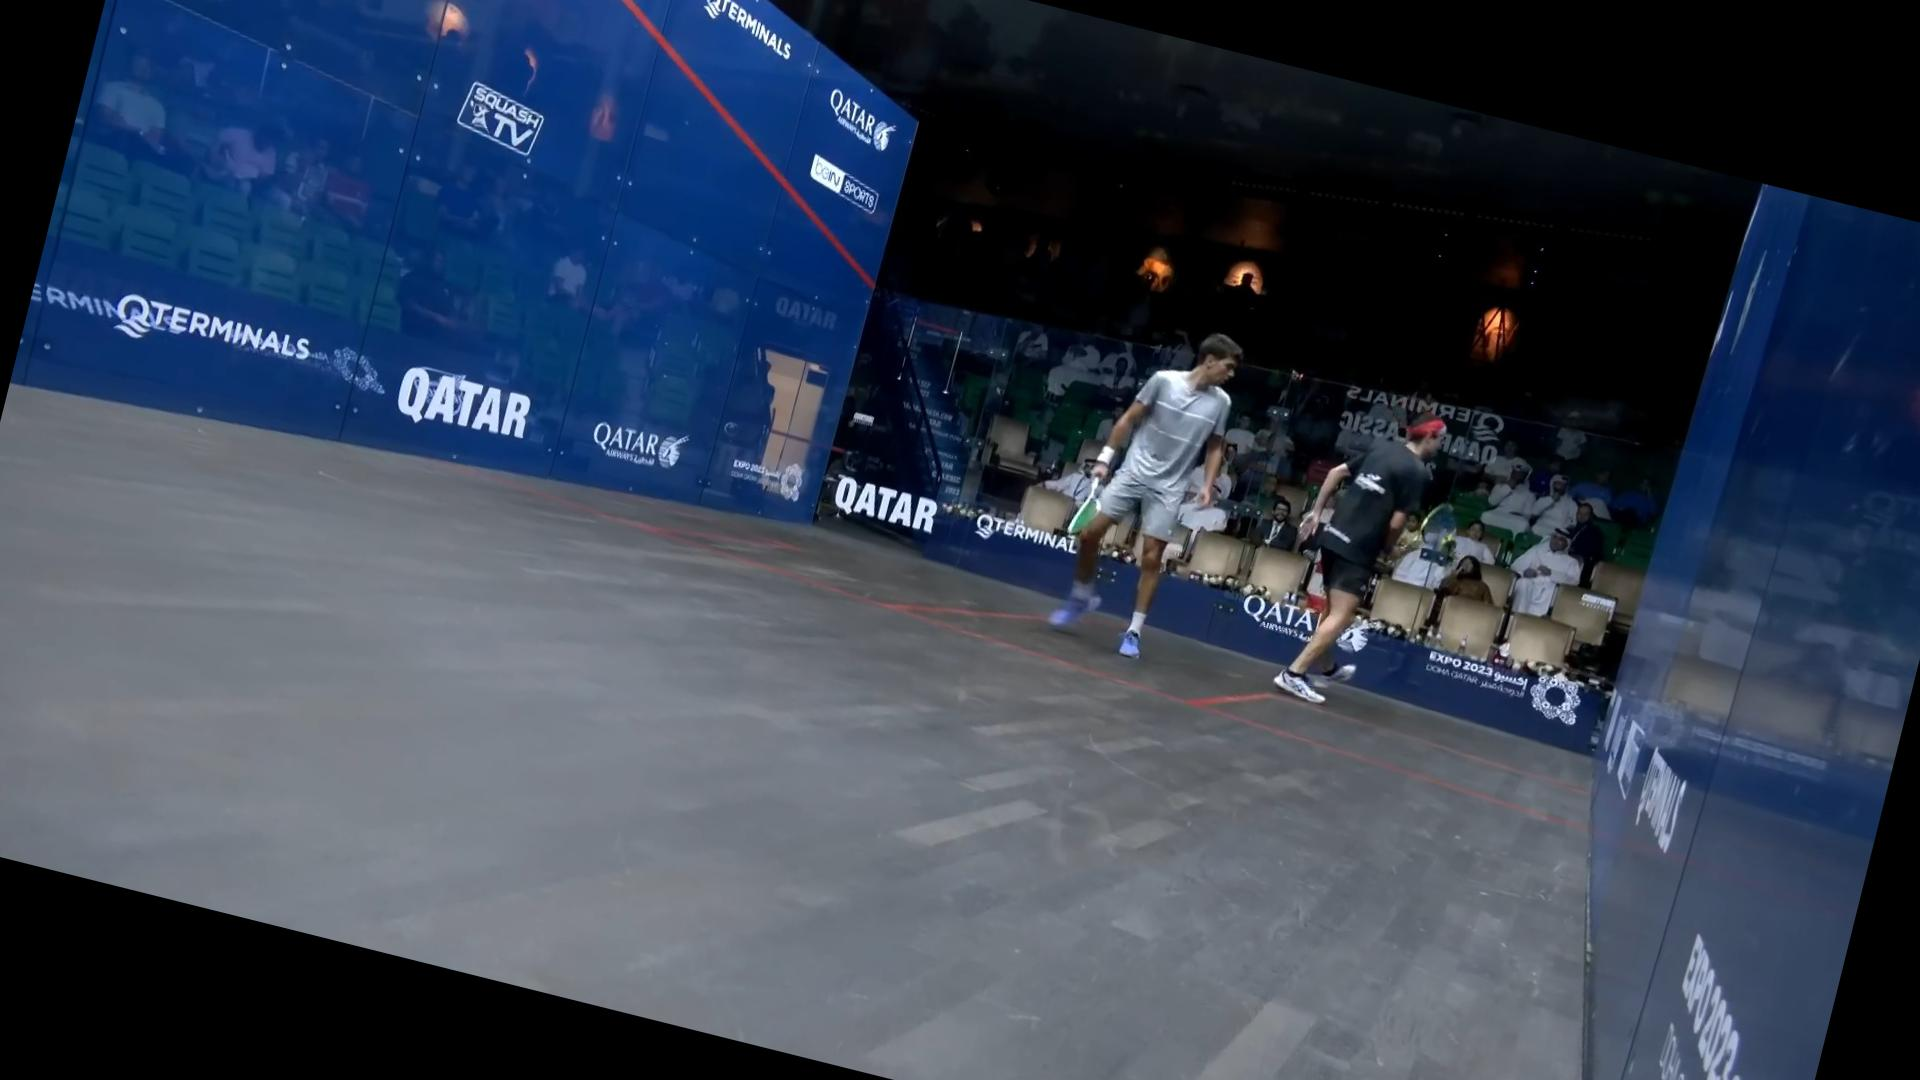Racket: (1400, 492, 1466, 574), (1065, 472, 1116, 546)
